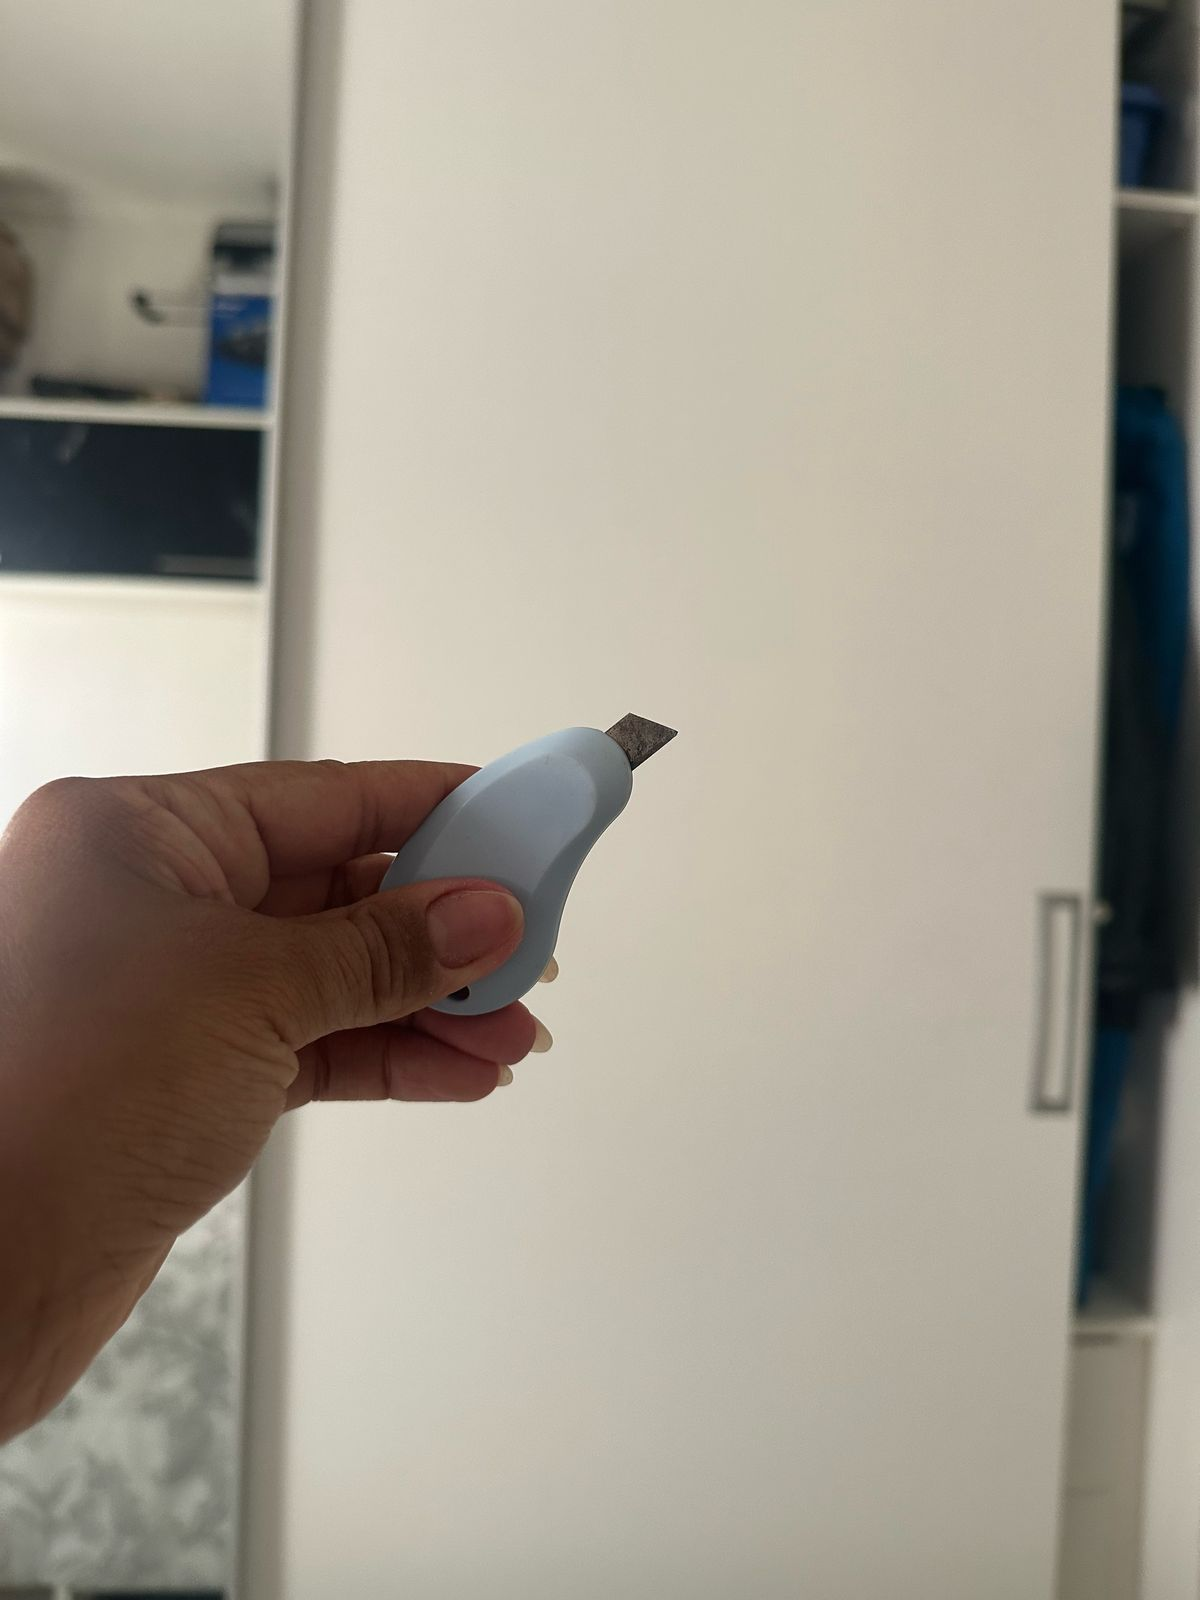estilete: (548, 679, 698, 825)
